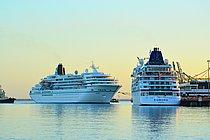Ship: (28, 59, 125, 107), (126, 45, 188, 111)
